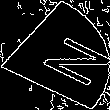N_NW: (10, 24, 100, 86)
